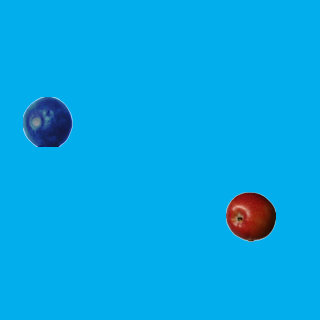Apple Braeburn: (225, 191, 275, 241)
Huckleberry: (22, 96, 72, 146)
